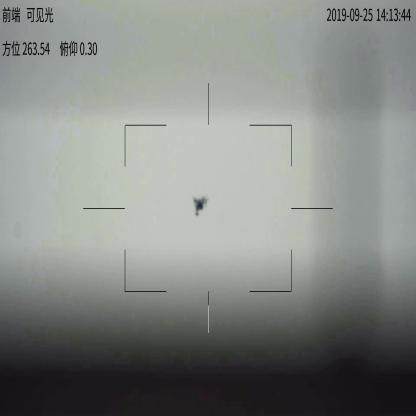uav: (191, 193, 209, 219)
